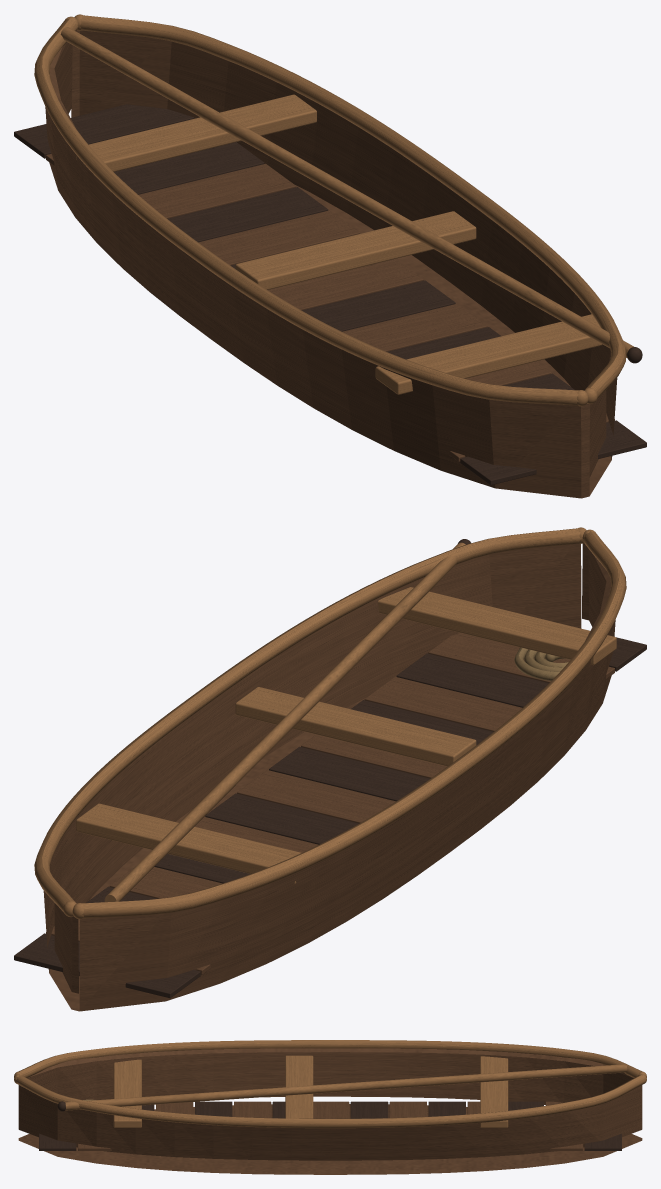
Rendered from punt.glb.
3 views of the same model, one above another, from view 1: azimuth 30°, elevation 25°; view 2: azimuth 150°, elevation 25°; view 3: azimuth 270°, elevation 25° (orthographic). The views are drawn at different scales.
Visible parts, largest first — view 1: punt; view 2: punt; view 3: punt.
Part boxes in pixels (x1,y1,x2,y2): punt: (14,14,646,498); punt: (14,527,646,1011); punt: (14,1040,646,1174).
Bounding box in the file's own units: 1.3 × 0.5 × 4.2.
Materials: 1 (1 with a texture image).
